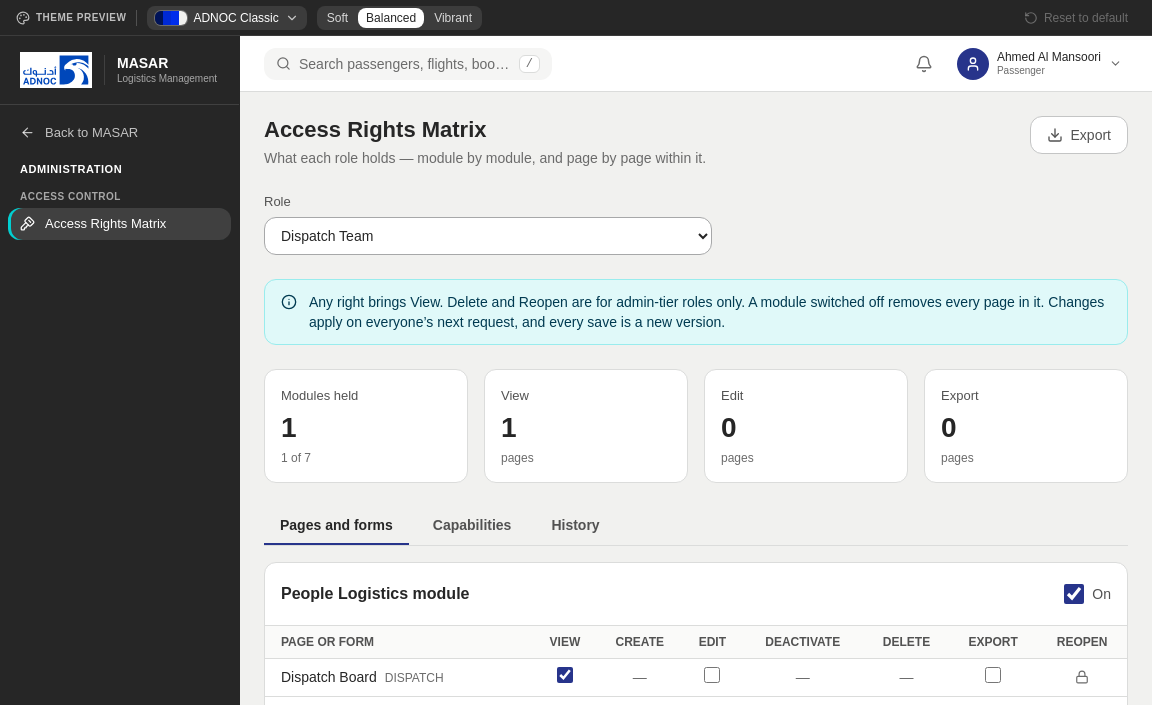
Scenario: BRD-D.2.1.3-MST the Access Rights Matrix page (spec 10 §2.3) › PROMPT-2.16 says when someone else saved first, and offers a reload
The width and height of the screenshot is (1152, 705).
What coordinates should you click on to do the following:
click the checkbox named "Export: Dispatch Board"
I would click on:
 (993, 674)
Its box is [985,666,1001,682].
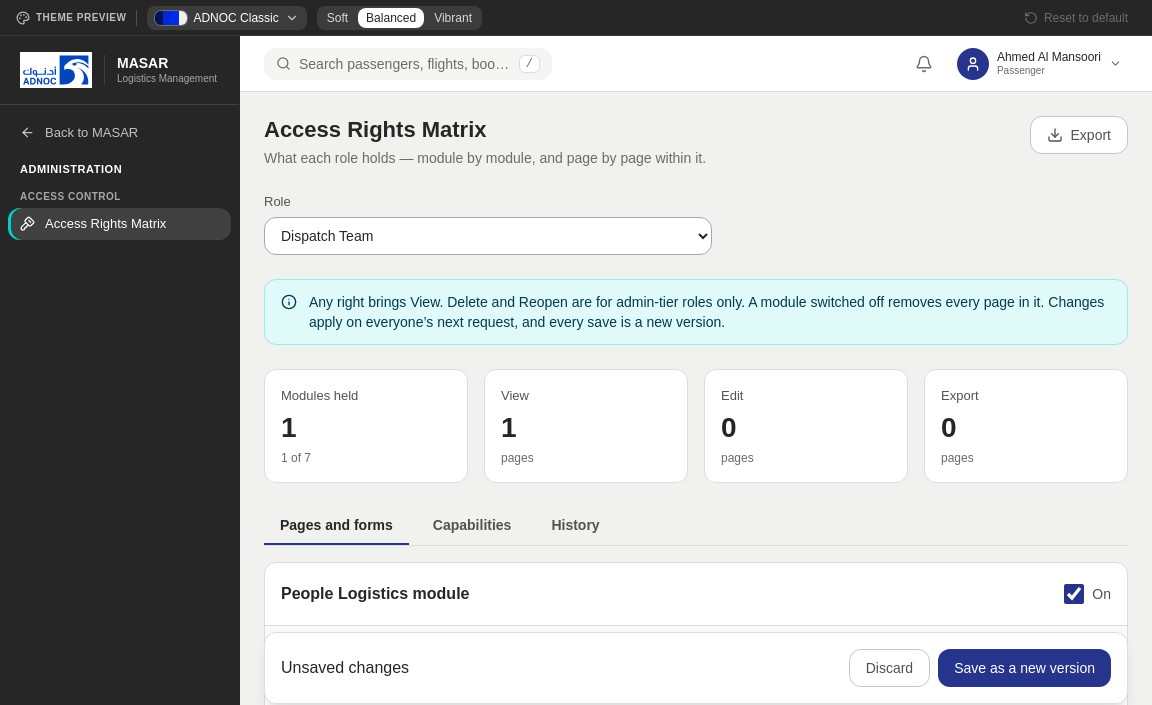
What coordinates should you click on to do the following:
click the button "Save as a new version"
I would click on:
 (1025, 668)
Its box is [938,649,1111,687].
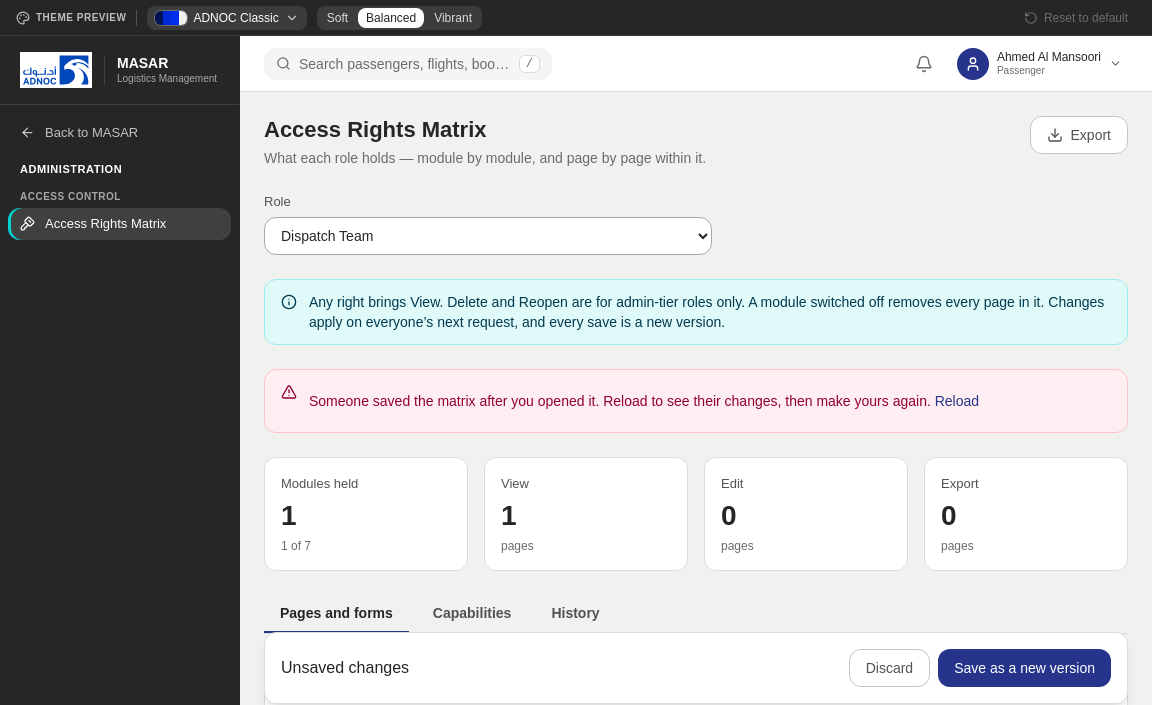
Expected: the text "Someone saved the matrix after you opened it" is shown, [309,393,931,409]
Expected: the button "Reload" is shown, [935,382,979,420]
